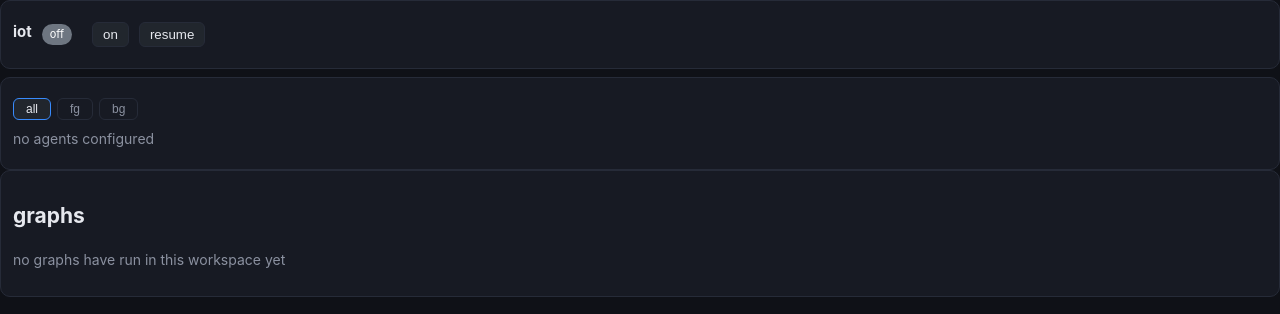
Test: Workspace page — controls › surfaces on/off/resume failures inline instead of staying silent
Click the button "on". click: (110, 34)
box: [92,22,129,47]
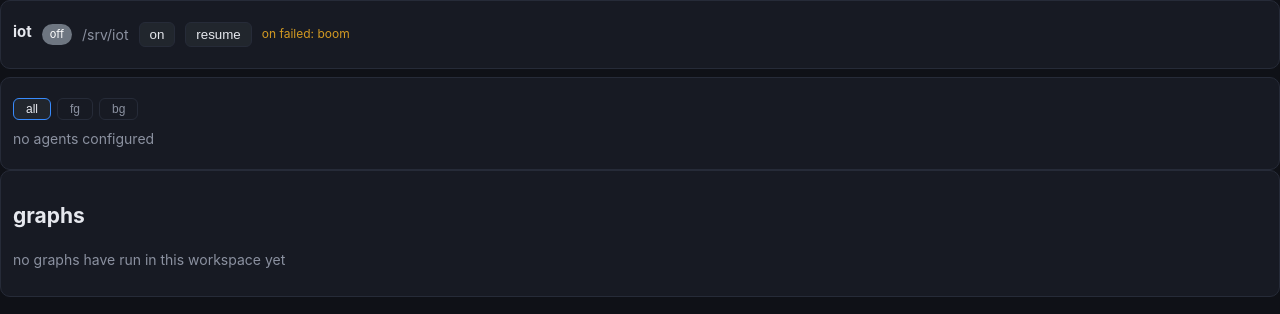
Now the text "on failed: boom" is shown, box [262,25,350,43]
Click the button "resume". click: (219, 34)
box: [185,22,252,47]
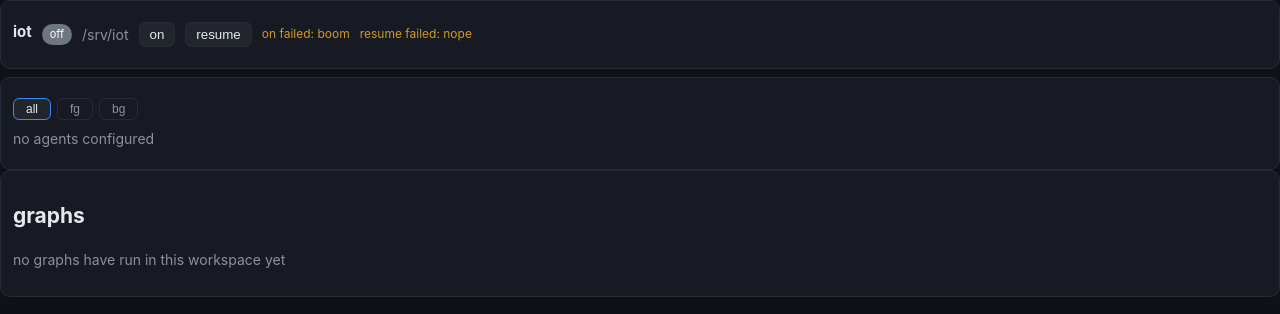
Now the text "resume failed: nope" is shown, box [360,25,472,43]
